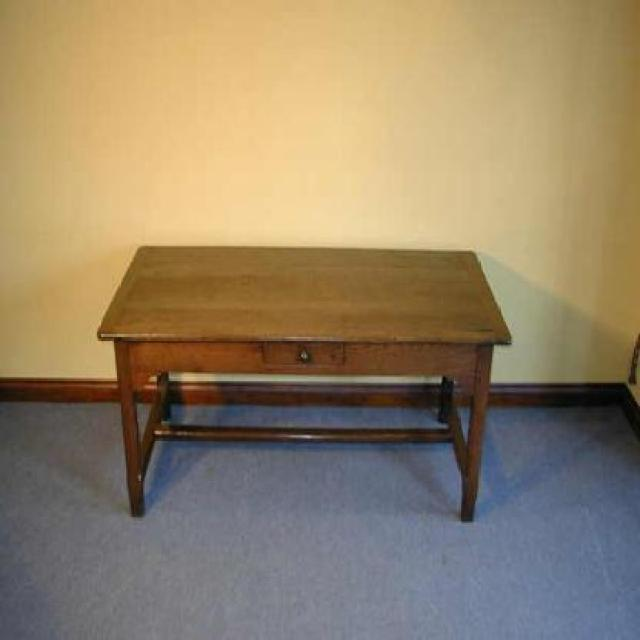tables: (95, 243, 511, 522)
